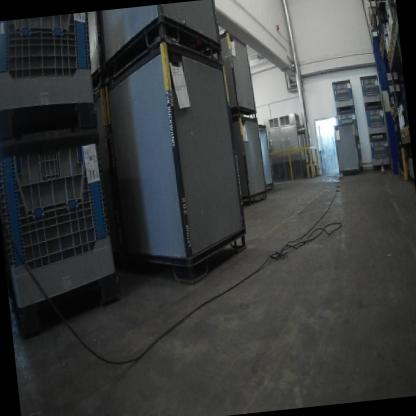pallet: (369, 14, 380, 32), (390, 26, 398, 42), (402, 122, 408, 137), (393, 100, 400, 112), (385, 51, 392, 62), (389, 39, 394, 54), (387, 106, 394, 115), (380, 33, 385, 44), (378, 43, 382, 53)
small_load_carrier: (383, 68, 393, 82), (388, 95, 395, 109), (392, 66, 399, 77), (386, 83, 392, 95)
stillage: (392, 81, 401, 95), (403, 105, 408, 122)
